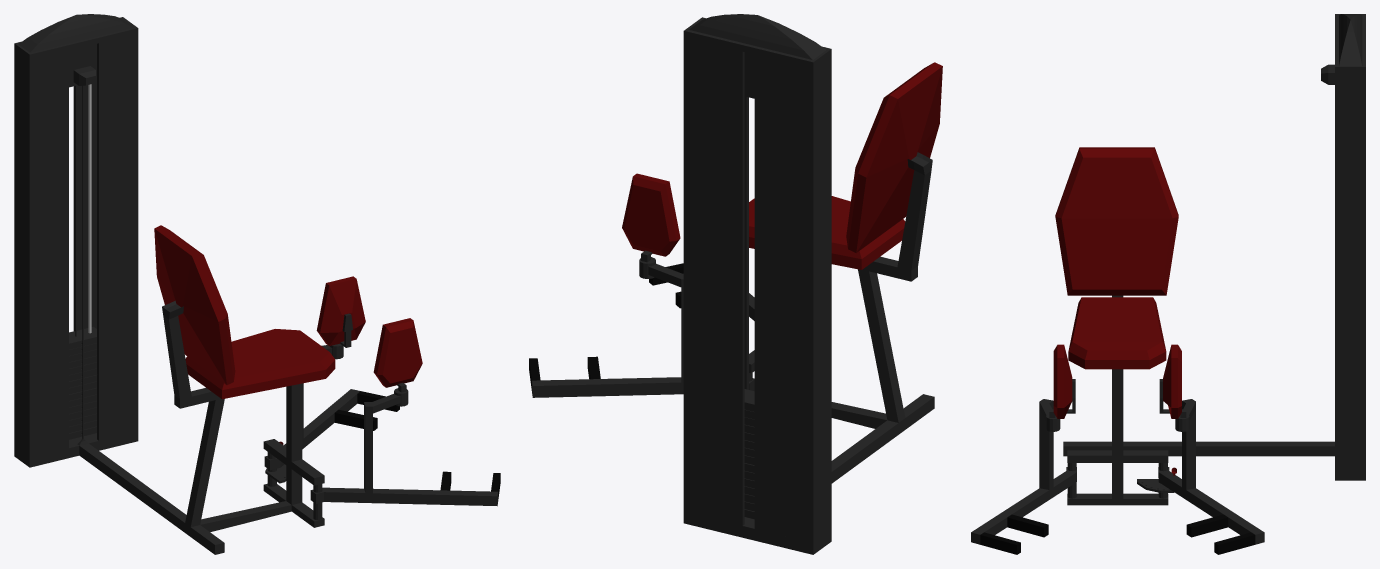
The model's file is InnerOuterThighMachine.001.fbx.
The picture shows the model from 3 angles, left to right: view 1: azimuth 30°, elevation 25°; view 2: azimuth 150°, elevation 25°; view 3: azimuth 270°, elevation 25°; orthographic projection. The views are drawn at different scales.
Parts seen in each view (by area): view 1: InnerOuterThighMachine.001; view 2: InnerOuterThighMachine.001; view 3: InnerOuterThighMachine.001.
Part boxes in pixels (<box>): InnerOuterThighMachine.001: <box>14,14,500,554</box>; InnerOuterThighMachine.001: <box>529,14,942,554</box>; InnerOuterThighMachine.001: <box>971,14,1365,554</box>.
Size of the model in its own units: 130 by 173 by 143.
